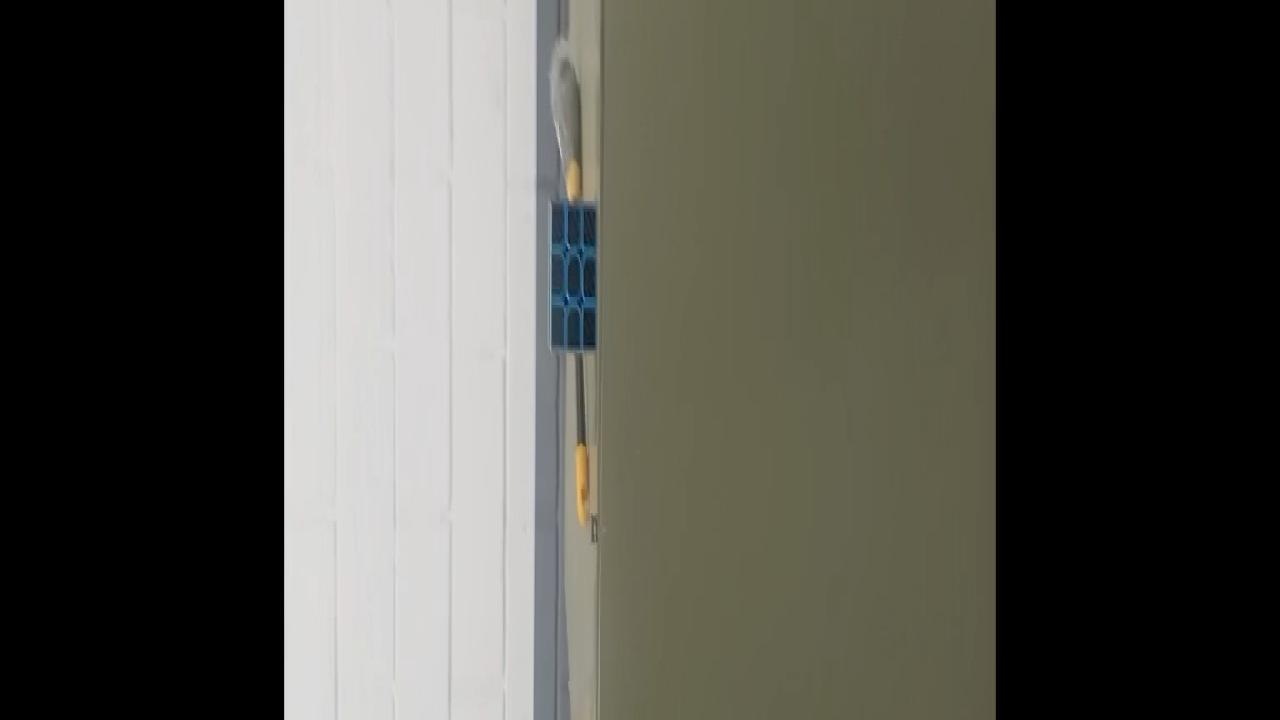Cube: (546, 198, 596, 358)
